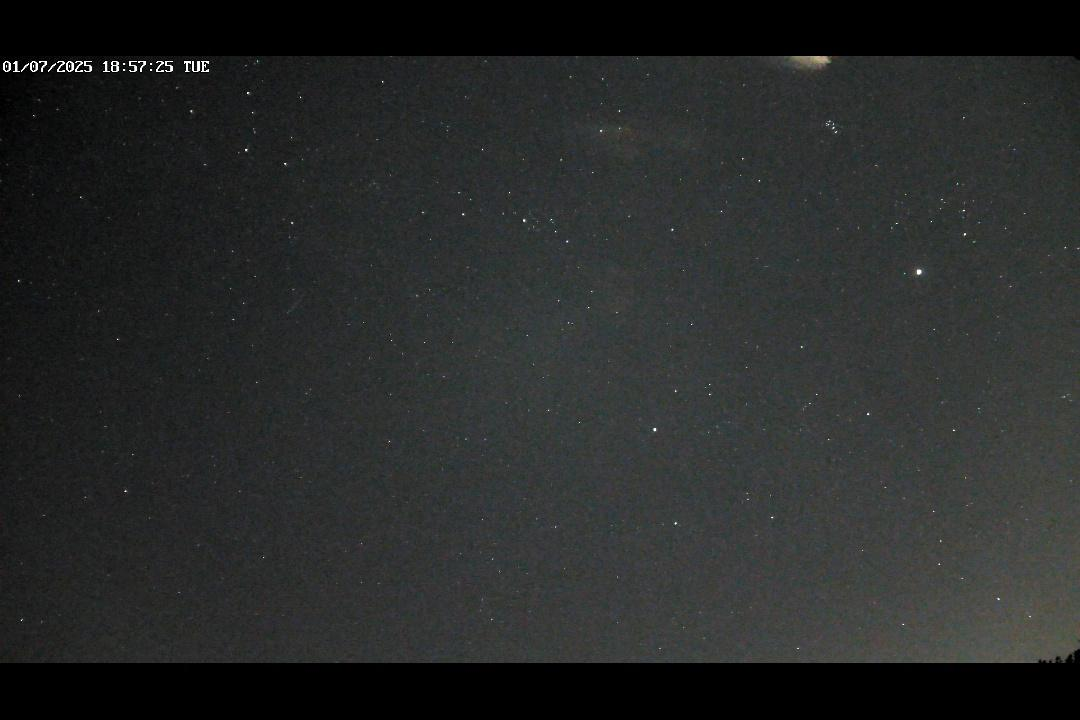Plane: (277, 289, 315, 320)
